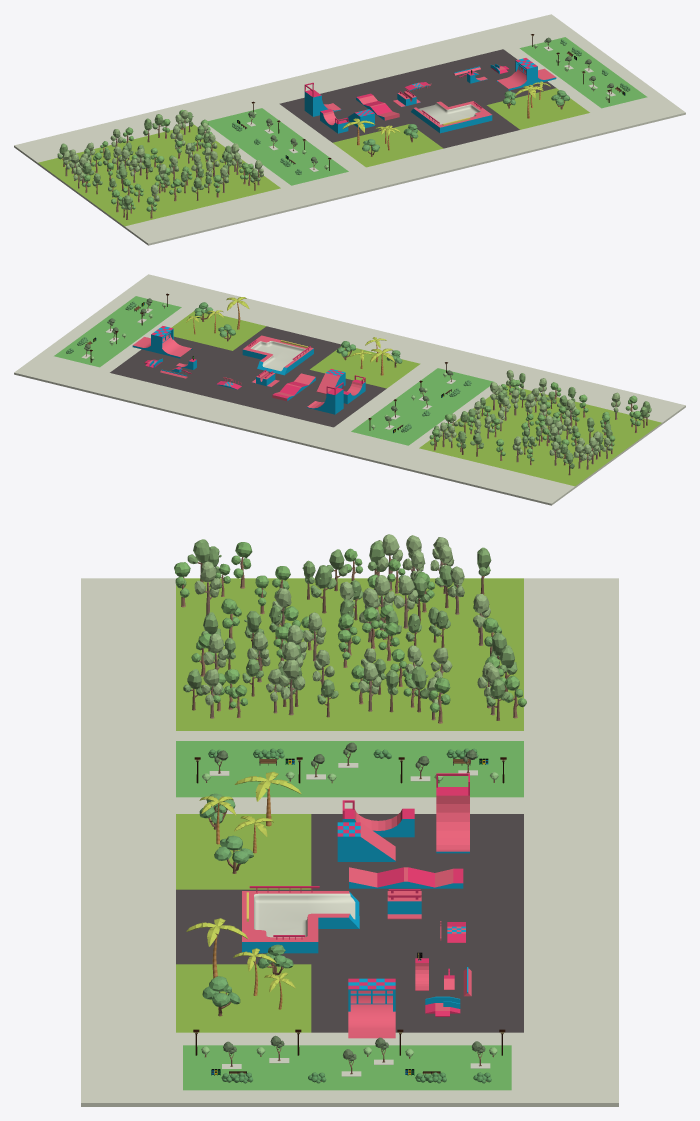
Rendered from D4_SKATEPARK.fbx.
3 renders of one model, top to bottom at view 1: azimuth 30°, elevation 25°; view 2: azimuth 150°, elevation 25°; view 3: azimuth 270°, elevation 25°, orthographic. The views are drawn at different scales.
Visible parts, largest first — view 1: Plane.013, Cube.132, Cube.118, Cube.121, Cube.124, Cube.123; view 2: Plane.013, Cube.132, Cube.118, Cube.124, Cube.121, Cube.122, Cube.123; view 3: Plane.013, Cube.132, Cube.118, Cube.124, Cube.121, Cube.122, Cube.123, Cube.120.
Boxes of the visible parts, <box> form: Plane.013: <box>14,14,685,245</box>; Cube.132: <box>411,101,492,133</box>; Cube.118: <box>497,58,556,90</box>; Cube.121: <box>356,93,399,120</box>; Cube.124: <box>304,89,341,116</box>; Cube.123: <box>320,109,348,133</box>; Plane.013: <box>14,274,685,505</box>; Cube.132: <box>242,335,313,375</box>; Cube.118: <box>132,326,192,358</box>; Cube.124: <box>307,387,343,414</box>; Cube.121: <box>272,373,315,401</box>; Cube.122: <box>316,369,345,394</box>; Cube.123: <box>343,375,365,403</box>; Plane.013: <box>81,578,618,1106</box>; Cube.132: <box>242,891,359,953</box>; Cube.118: <box>348,978,395,1038</box>; Cube.124: <box>436,787,469,853</box>; Cube.121: <box>349,867,463,888</box>; Cube.122: <box>337,822,395,861</box>; Cube.123: <box>342,800,414,837</box>; Cube.120: <box>387,889,421,919</box>.
Bounding box in the file's own units: 24080 × 1350 × 10425.
28 materials, 6 textured.
